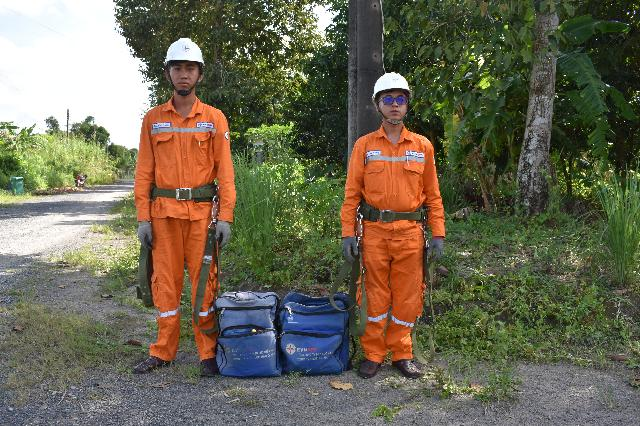gloves: (133, 219, 159, 251), (423, 231, 448, 263), (338, 233, 362, 264), (213, 218, 235, 251)
harness: (353, 195, 434, 230), (148, 174, 218, 211)
helmet: (159, 36, 212, 70), (364, 69, 418, 96)
shoes: (132, 345, 169, 376), (391, 355, 428, 382), (355, 355, 381, 380), (199, 355, 221, 381)
